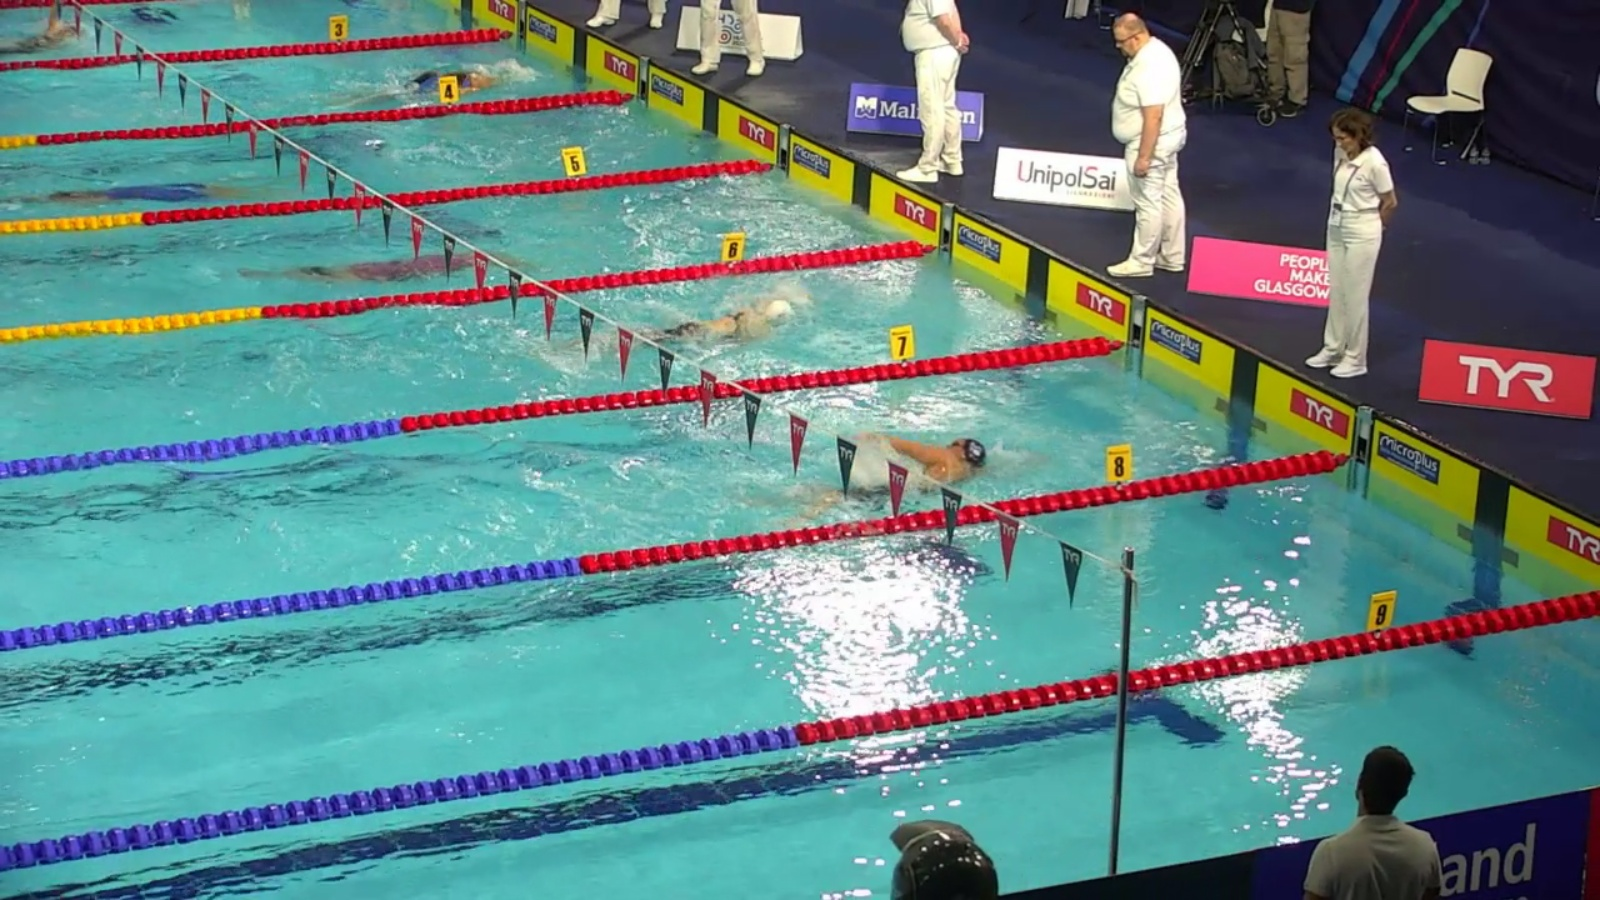swimmerw: (787, 429, 995, 532), (223, 249, 535, 289), (599, 297, 798, 353), (1, 179, 257, 213), (377, 57, 507, 109), (1, 10, 85, 53)
